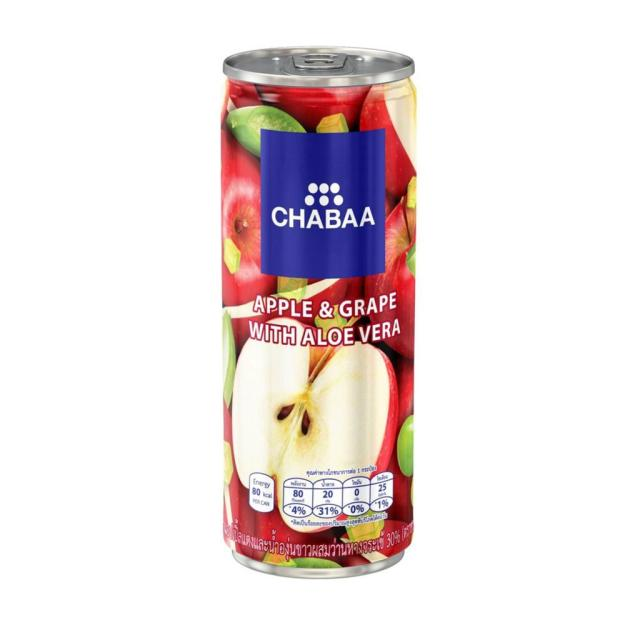can: (219, 44, 416, 580)
